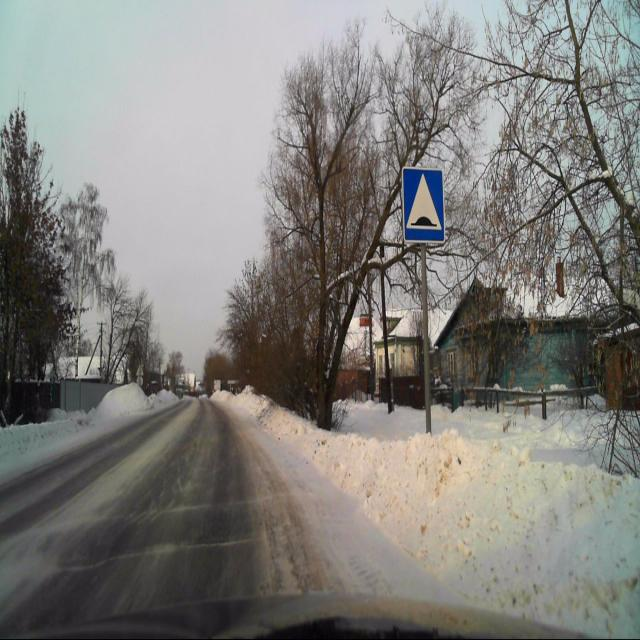object: (420, 244, 433, 435)
road sign: (402, 166, 446, 244)
